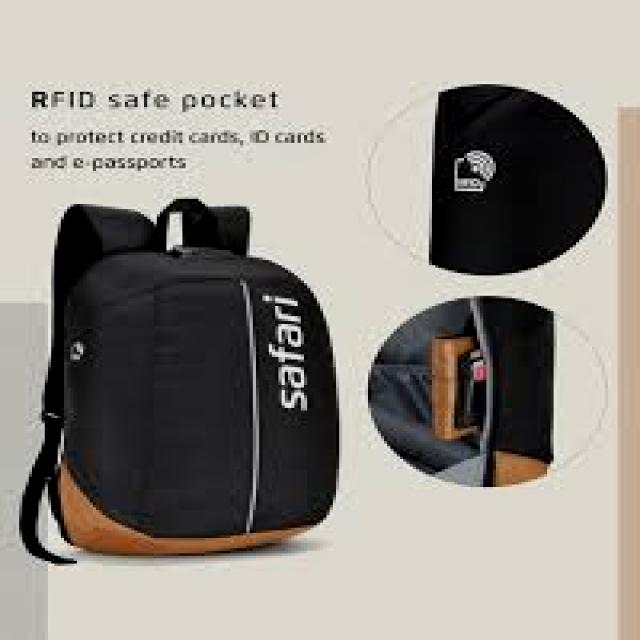backpack: (17, 198, 340, 565)
